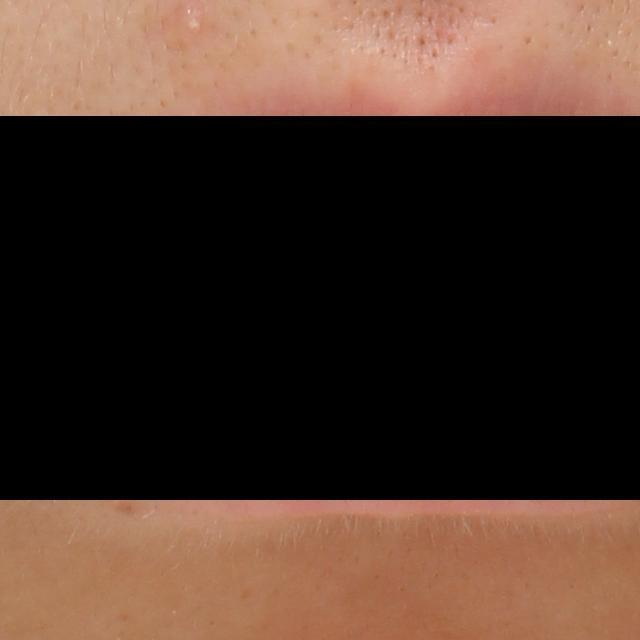pustule: (178, 8, 200, 37)
